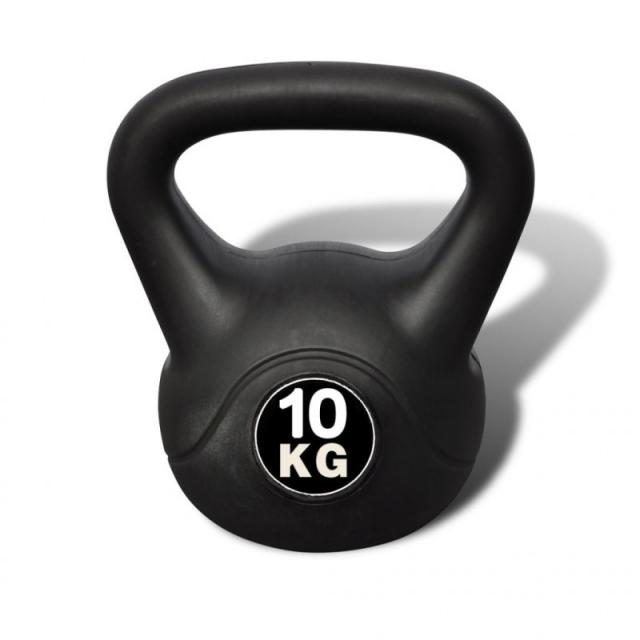Kettlebell: (86, 40, 548, 581)
